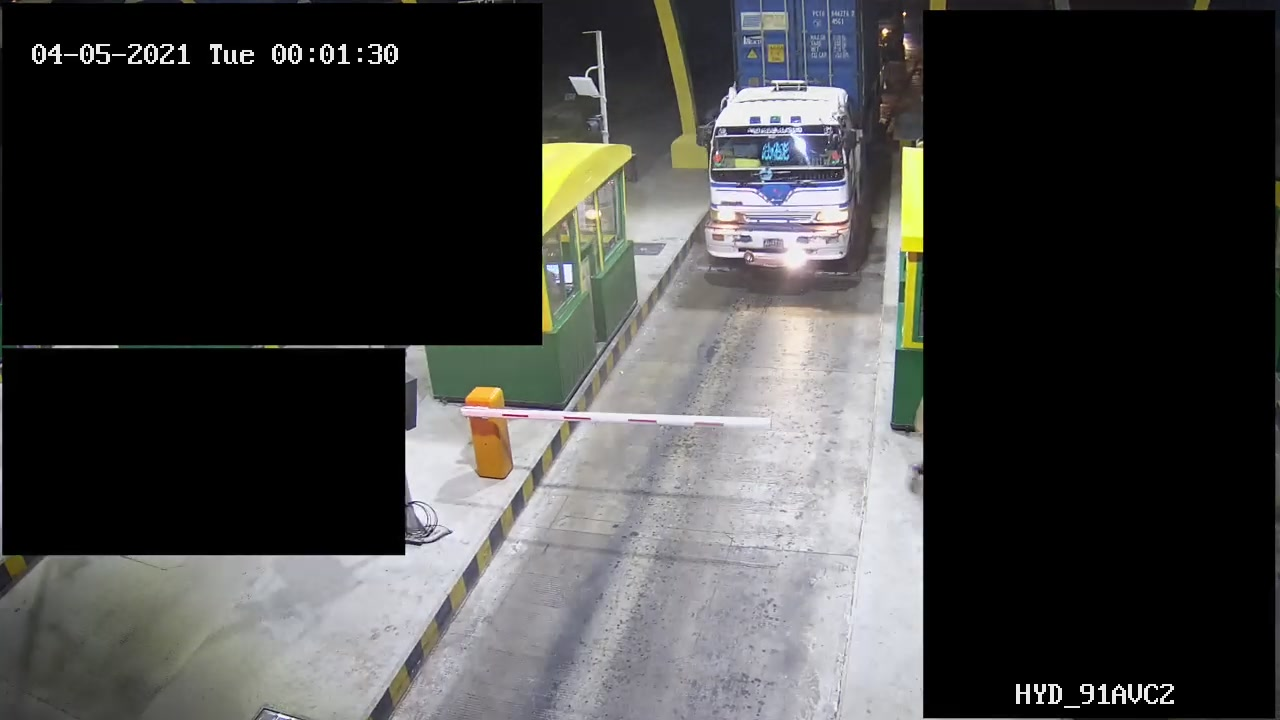F6: (697, 1, 882, 282)
